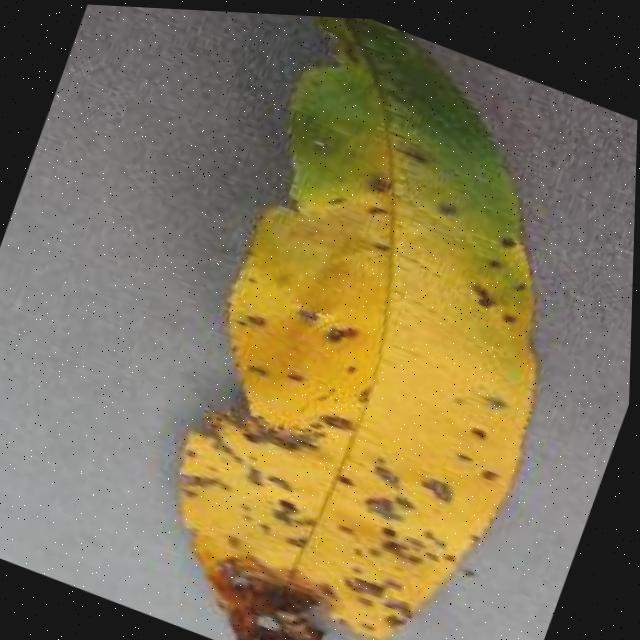Bacterial_spot: (98, 63, 626, 640)
